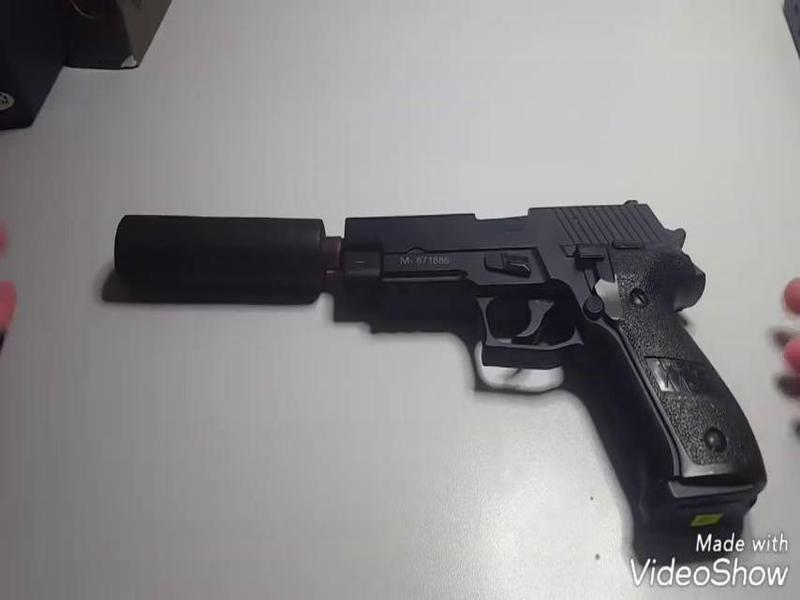Pistola: (116, 154, 782, 523)
